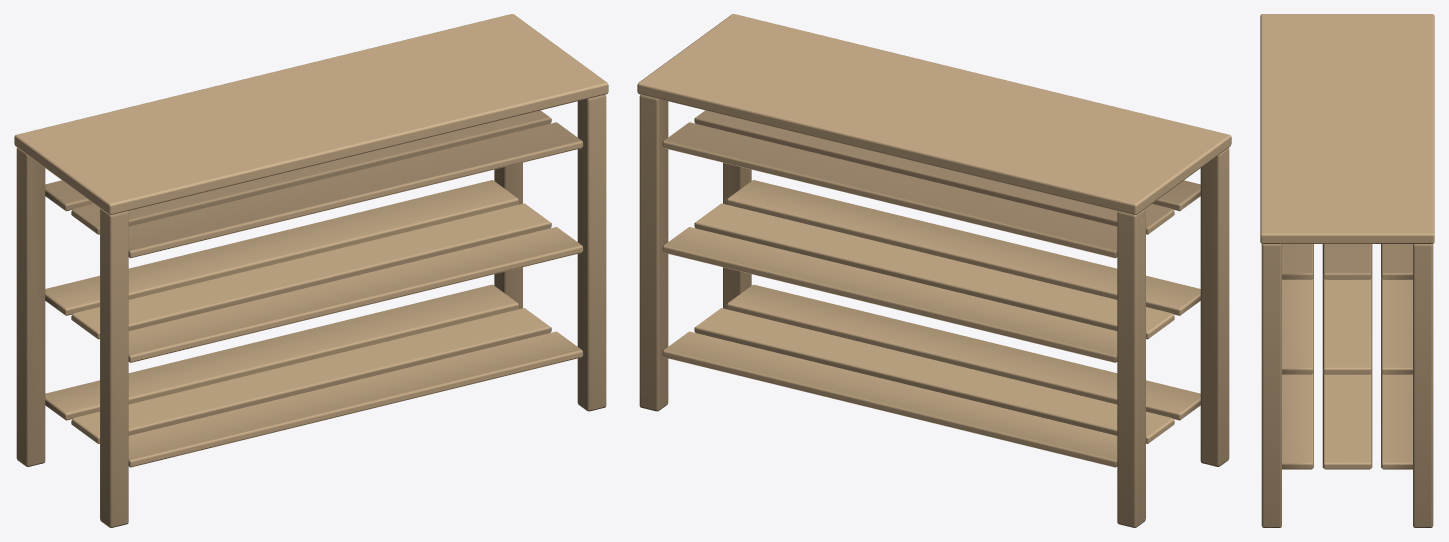
File: shoeRack.glb
The picture shows the model from 3 angles, left to right: view 1: azimuth 30°, elevation 25°; view 2: azimuth 150°, elevation 25°; view 3: azimuth 270°, elevation 25°; orthographic projection. The views are drawn at different scales.
Parts seen in each view (by area): view 1: top, slat02, slat22, slat12, slat11, slat01, slat00, slat10, leg1, leg2, leg3, slat21 (+2 smaller); view 2: top, slat00, slat20, slat10, slat11, slat01, slat02, slat12, leg3, leg0, leg1, slat21 (+2 smaller); view 3: top, leg0, leg2, slat01, slat11, slat00, slat02, slat10, slat12, slat21, slat20, slat22.
Boxes of the visible parts, x1,y1,x2,y2 form: top: (14, 14, 608, 214); slat02: (128, 331, 583, 467); slat22: (128, 122, 583, 258); slat12: (128, 227, 583, 362); slat11: (71, 203, 551, 339); slat01: (71, 308, 551, 443); slat00: (45, 284, 519, 420); slat10: (45, 180, 519, 315); leg1: (16, 147, 45, 466); leg2: (577, 94, 606, 411); leg3: (100, 208, 128, 527); slat21: (71, 110, 551, 234); top: (637, 14, 1231, 214); slat00: (662, 331, 1117, 467); slat20: (662, 122, 1117, 258); slat10: (662, 227, 1117, 362); slat11: (694, 203, 1174, 339); slat01: (694, 308, 1174, 443); slat02: (726, 284, 1200, 420); slat12: (726, 180, 1200, 315); leg3: (1200, 147, 1229, 466); leg0: (639, 94, 668, 411); leg1: (1117, 208, 1145, 527); slat21: (694, 110, 1174, 234); top: (1260, 14, 1434, 243); leg0: (1413, 244, 1433, 527); leg2: (1261, 244, 1281, 527); slat01: (1322, 373, 1372, 469); slat11: (1322, 278, 1372, 374); slat00: (1381, 373, 1412, 469); slat02: (1282, 373, 1313, 469); slat10: (1381, 278, 1412, 374); slat12: (1282, 278, 1313, 374); slat21: (1322, 244, 1372, 279); slat20: (1381, 244, 1412, 279); slat22: (1282, 244, 1313, 279).
Size of the model in its own units: 0.9 by 0.56 by 0.3.
